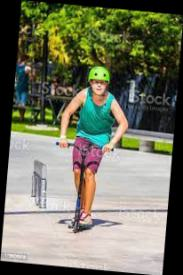helmet: (48, 60, 135, 239)
